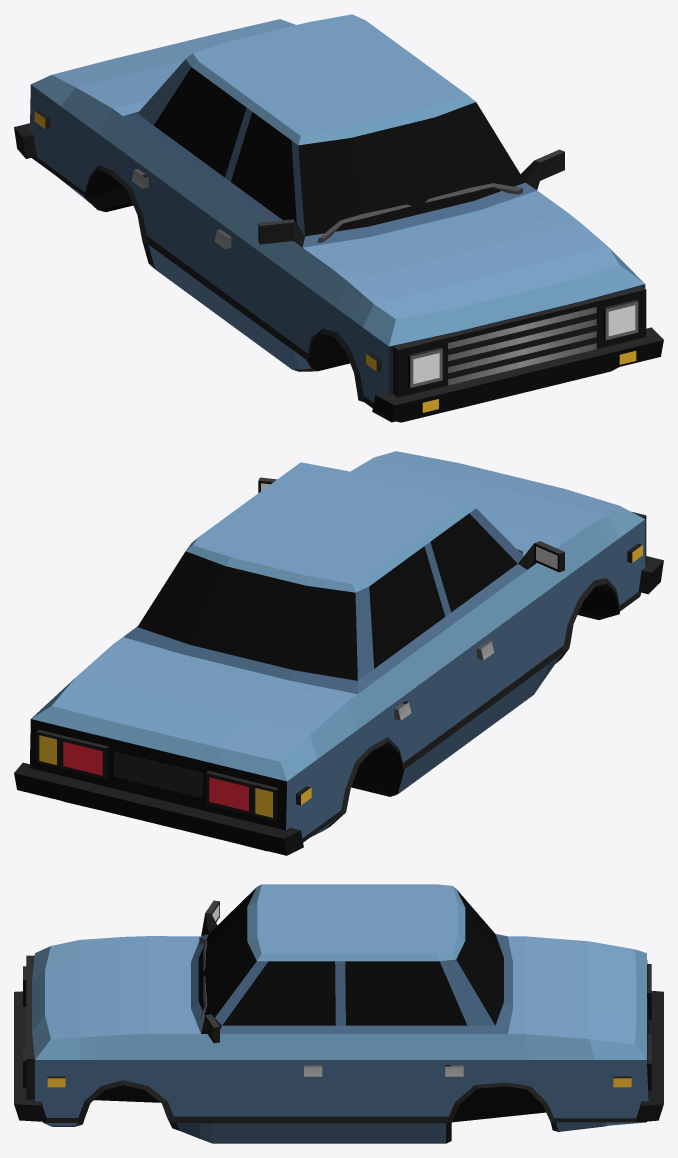
The model's file is SedanBlue.fbx.
3 views of the same model, one above another, from view 1: azimuth 30°, elevation 25°; view 2: azimuth 150°, elevation 25°; view 3: azimuth 270°, elevation 25° (orthographic). The views are drawn at different scales.
Visible parts, largest first — view 1: SedanBlue; view 2: SedanBlue; view 3: SedanBlue.
Part boxes in pixels (x1,y1,x2,y2): SedanBlue: [14, 14, 663, 422]; SedanBlue: [14, 451, 663, 855]; SedanBlue: [14, 884, 663, 1143].
Size of the model in its own units: 1.75 by 1.14 by 3.78.
